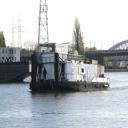tugboat: (29, 42, 111, 96)
